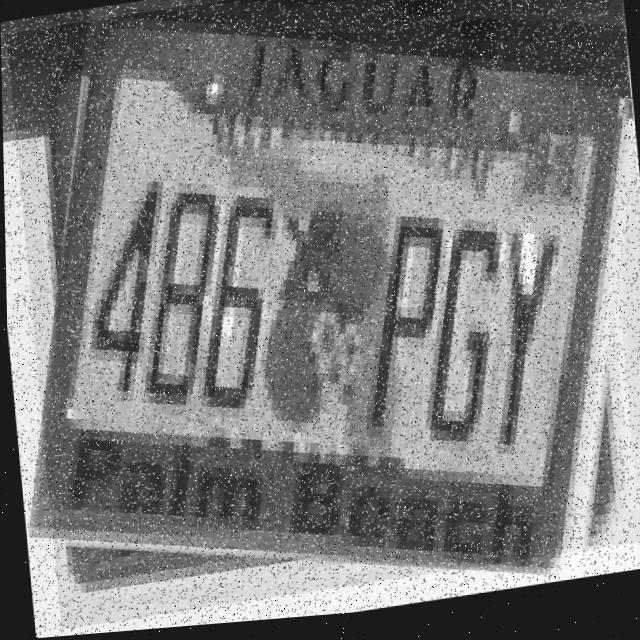LicensePlate: (5, 0, 640, 632)
